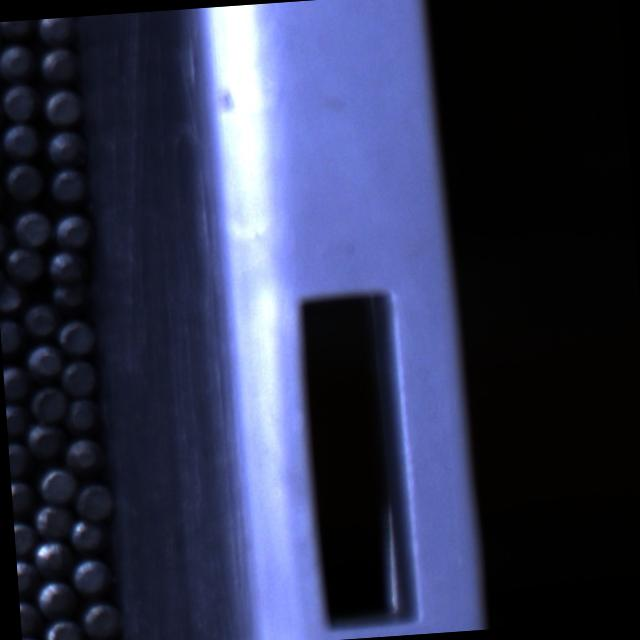tool: (4, 160, 46, 201), (10, 207, 52, 248), (47, 165, 89, 206), (44, 128, 87, 168), (2, 244, 44, 284), (42, 88, 84, 128), (52, 209, 94, 249), (64, 434, 106, 474), (32, 578, 74, 618), (1, 120, 42, 160), (74, 480, 114, 520), (72, 556, 112, 596), (38, 42, 78, 82), (36, 464, 77, 503), (80, 599, 121, 638), (28, 384, 68, 422), (60, 358, 99, 396), (24, 341, 64, 378), (26, 421, 66, 458), (56, 318, 97, 354), (2, 82, 40, 120), (64, 396, 102, 434), (0, 41, 36, 81), (31, 502, 70, 538), (22, 301, 59, 336), (48, 250, 87, 282), (38, 542, 72, 578), (34, 16, 77, 44), (70, 522, 108, 552), (52, 284, 89, 312), (10, 479, 36, 516), (2, 368, 32, 400), (16, 560, 41, 598), (41, 617, 82, 640), (0, 318, 24, 355), (8, 440, 32, 477), (0, 279, 24, 315), (19, 600, 43, 636), (14, 522, 36, 556), (0, 19, 36, 39), (6, 406, 30, 436), (0, 216, 10, 255), (0, 176, 3, 213)
